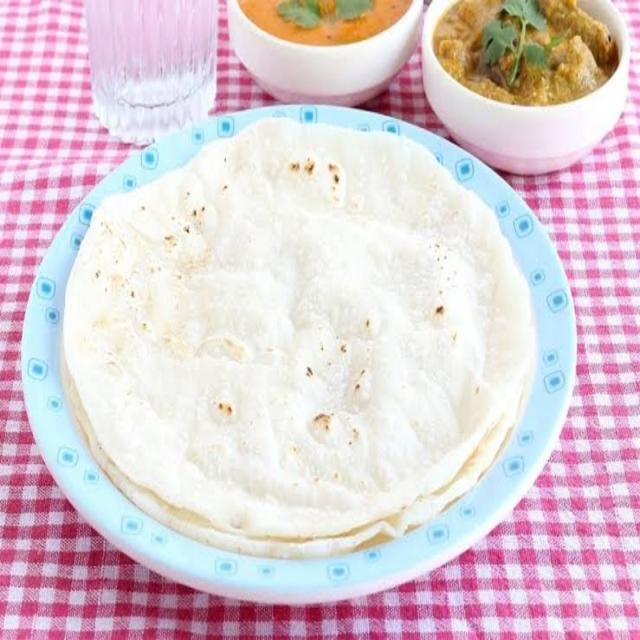RICE BHAKRI: (67, 121, 526, 558)
